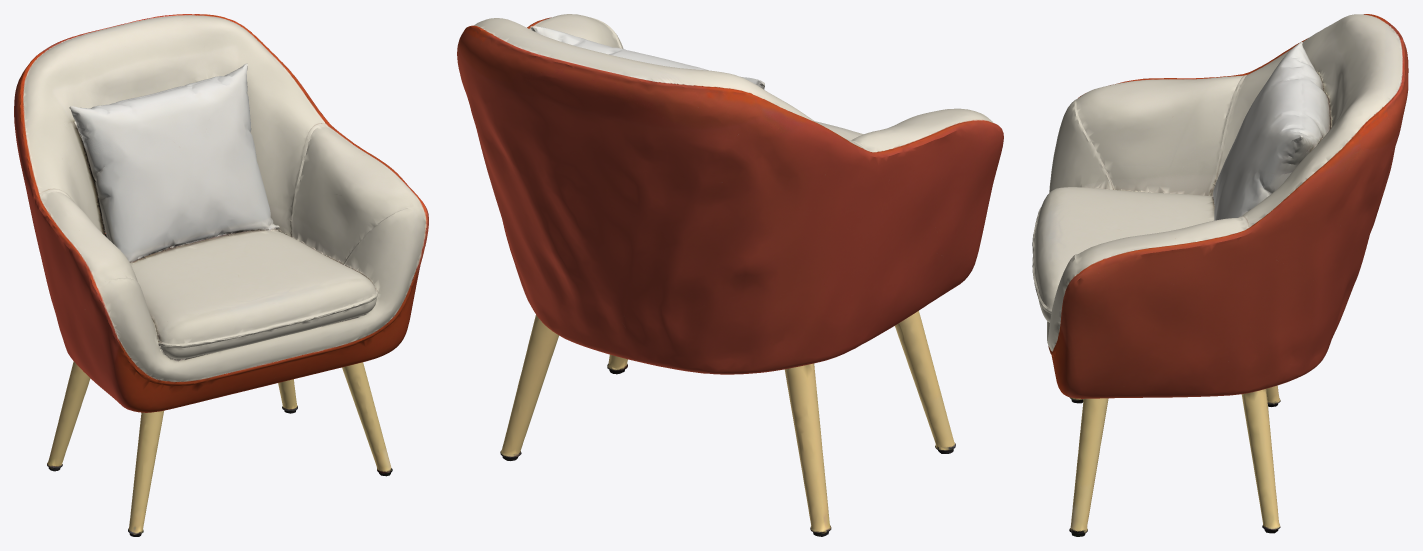
3 renders of one model, left to right at view 1: azimuth 30°, elevation 25°; view 2: azimuth 150°, elevation 25°; view 3: azimuth 270°, elevation 25°, orthographic. The views are drawn at different scales.
Bounding box in the file's own units: 1.8 × 1.91 × 1.59.
1 material, 1 textured.
